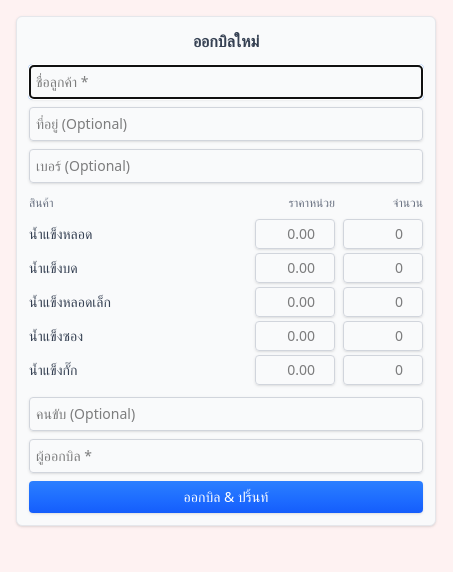
shows validation error when price entered without quantity
The image size is (453, 572).
In the field named "Customer Name": (226,82) 29,65 -> 423,99, type "John"
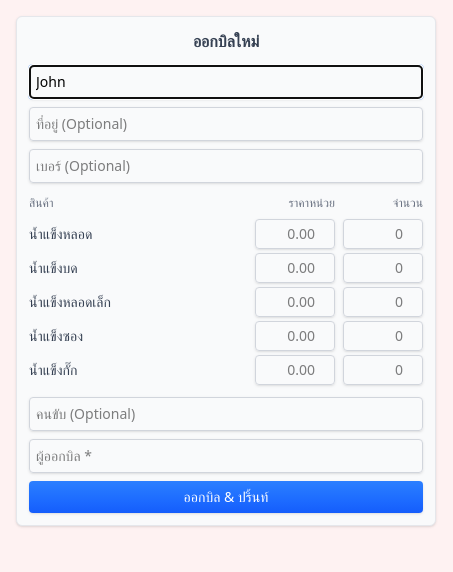
In the number field named "ราคาของน้ำแข็งหลอด": (295,234) 255,219 -> 335,249, type "5"
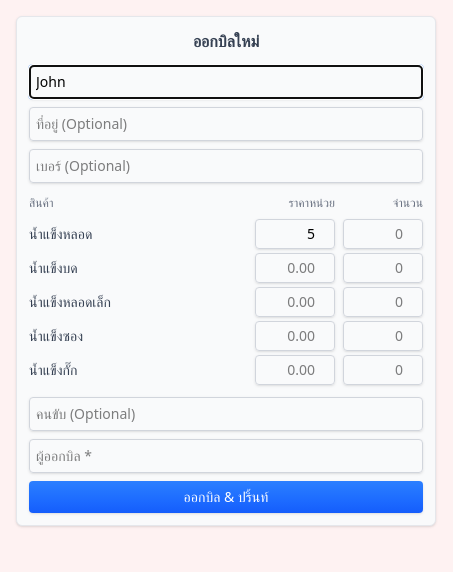
In the field named "Issuer": (226,456) 29,439 -> 423,473, type "admin"
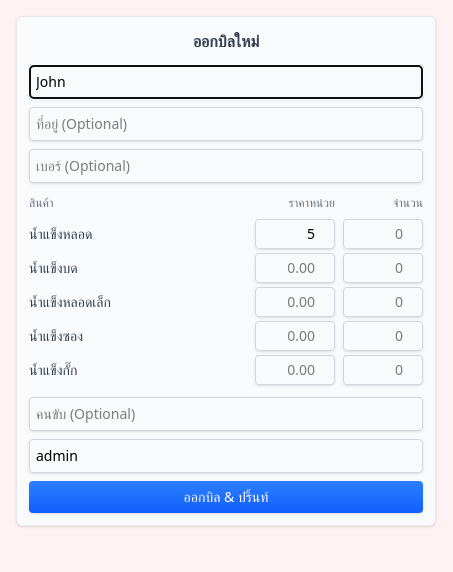
Click the button "ออกบิล & ปริ้นท์": (226,497) 29,481 -> 423,513
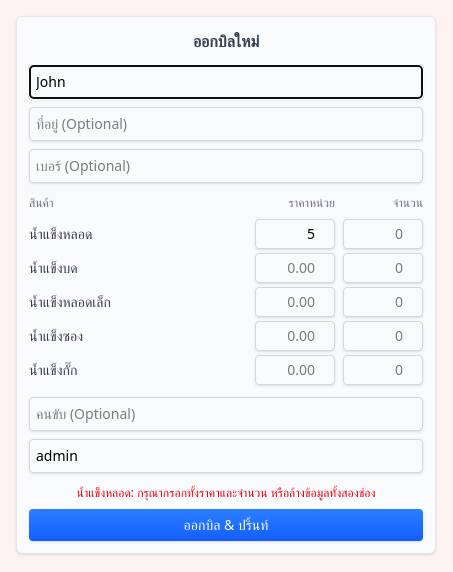
Result: the text "กรุณากรอกทั้งราคาและจำนวน" is shown at 76,484 -> 376,501
